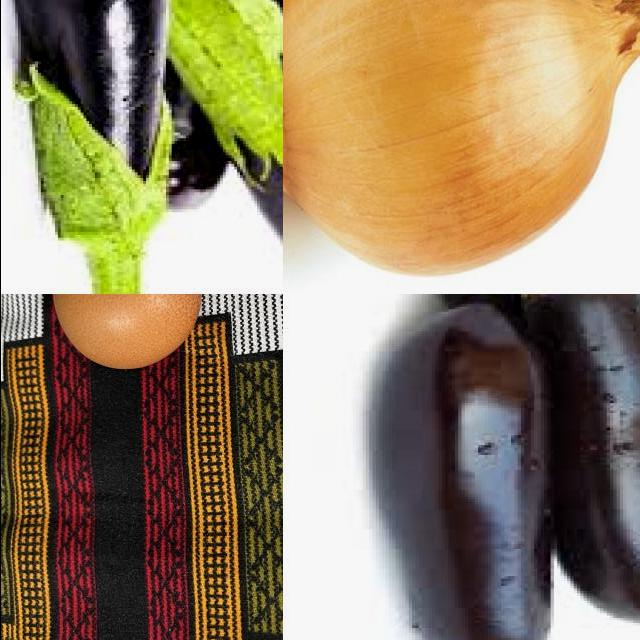egg: (47, 295, 209, 374)
eggplant: (376, 300, 554, 640), (19, 1, 172, 295), (525, 295, 640, 621), (163, 1, 283, 295)
onion: (283, 1, 640, 278)
